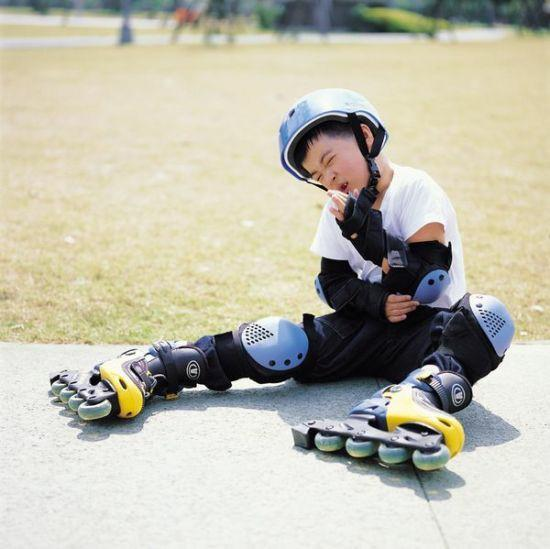Fall-Detected: (53, 67, 501, 472)
